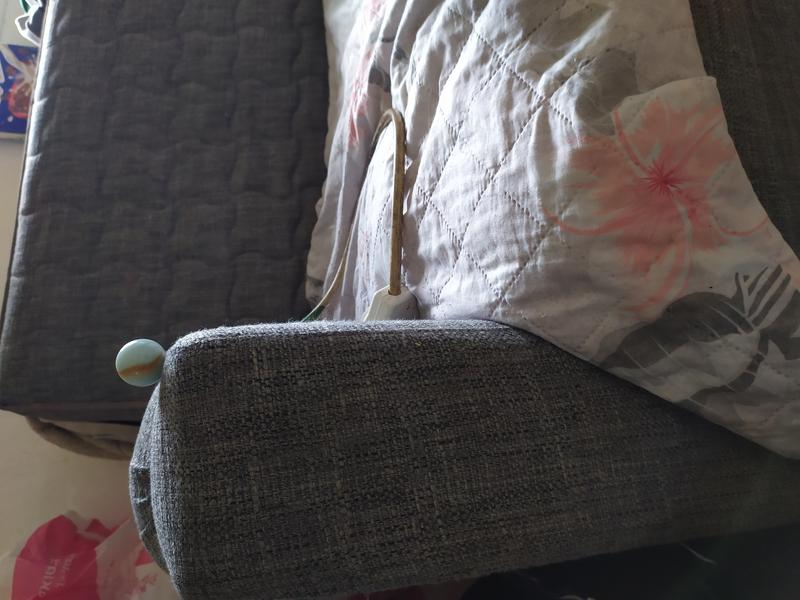Warning: (113, 336, 167, 389)
